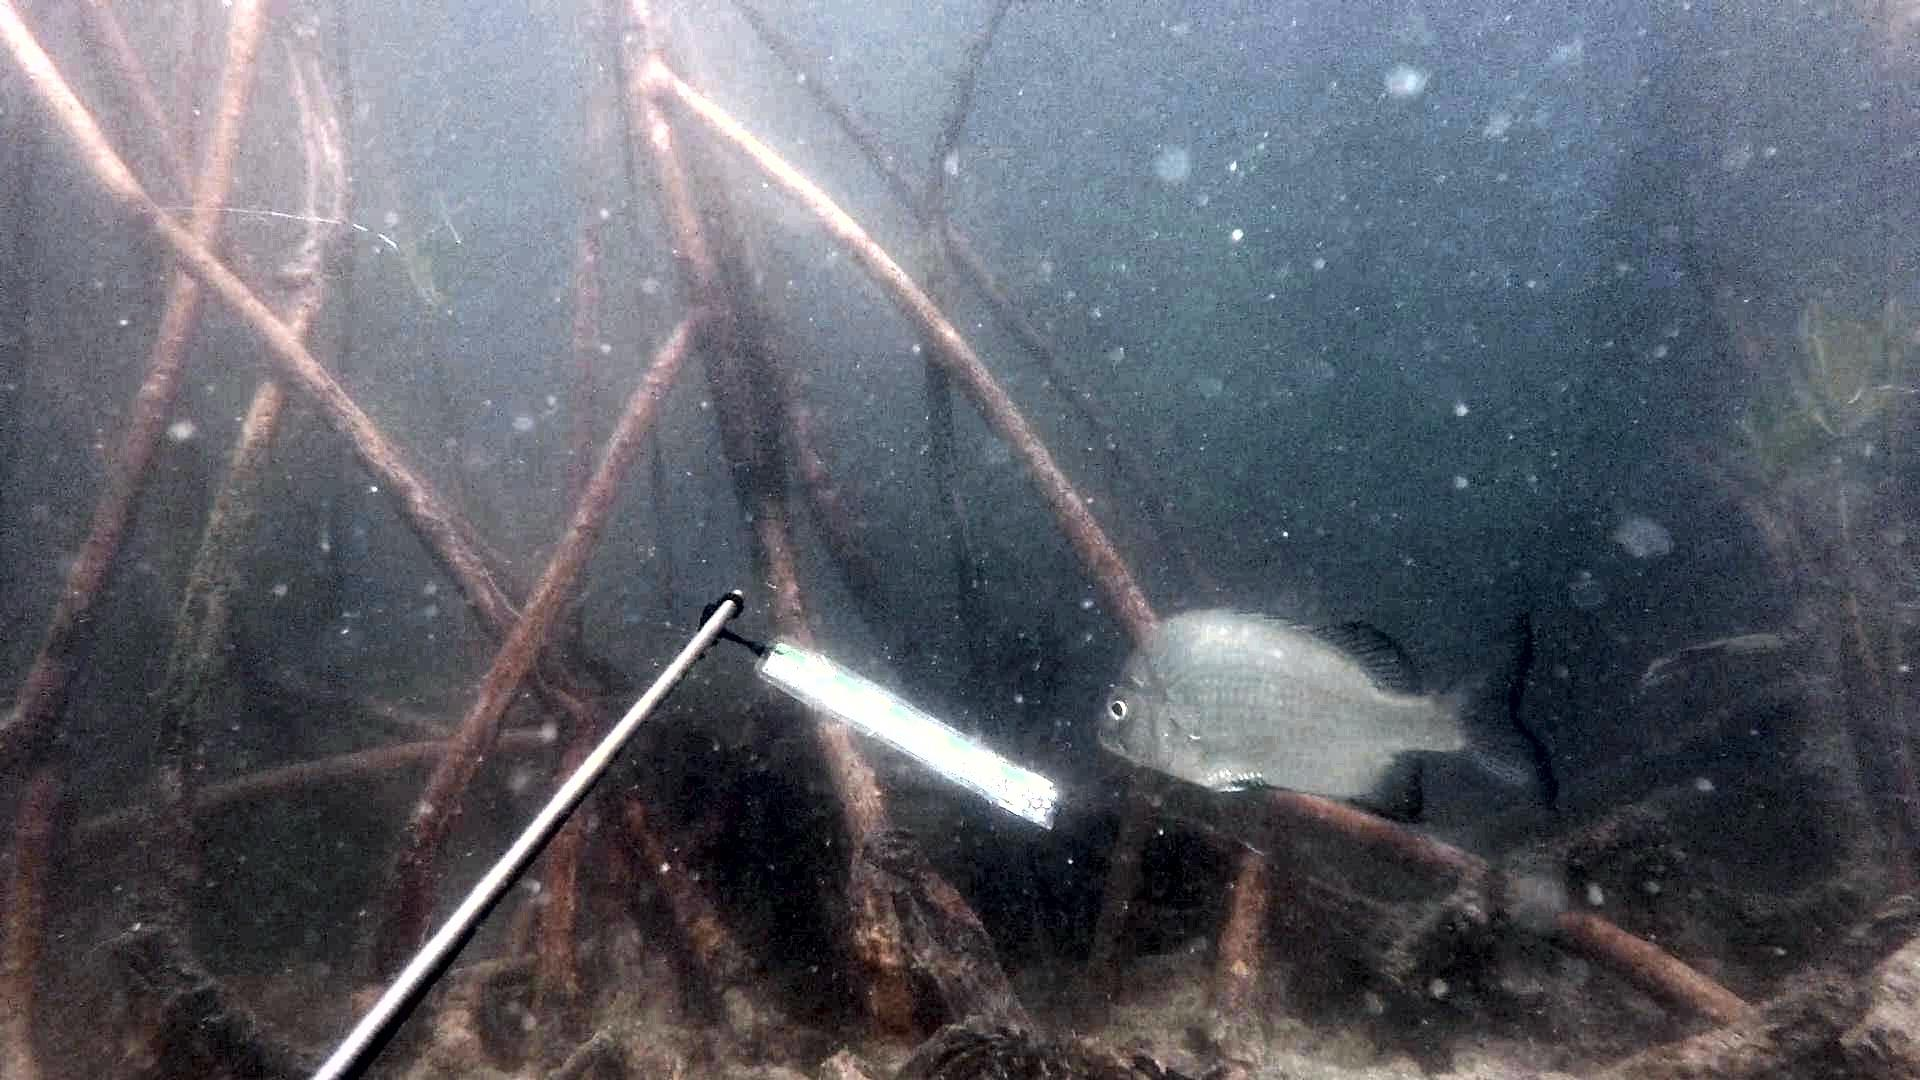acanthopagrus palmaris: (1080, 589, 1574, 872)
